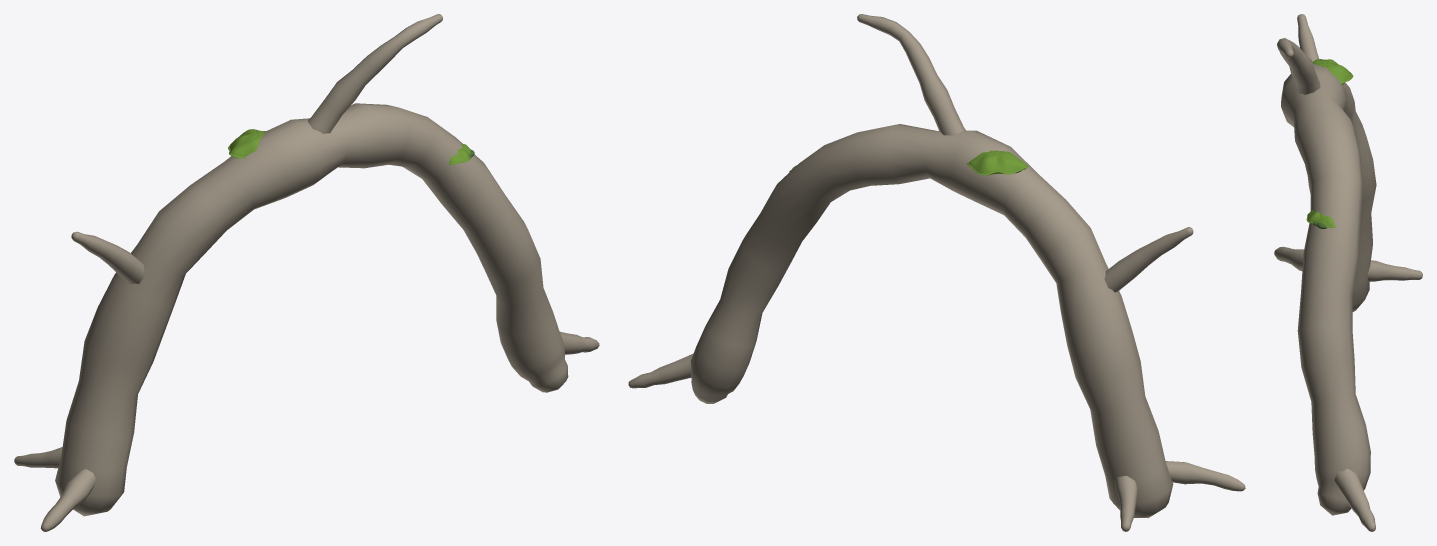
File: sh_driftwood_arch.fbx
3 views of the same model, side by side, from view 1: azimuth 30°, elevation 25°; view 2: azimuth 150°, elevation 25°; view 3: azimuth 270°, elevation 25° (orthographic). The views are drawn at different scales.
Visible parts, largest first — view 1: SH_Driftwood_Arch; view 2: SH_Driftwood_Arch; view 3: SH_Driftwood_Arch.
Boxes of the visible parts, box(x1,y1,x2,y2) form: SH_Driftwood_Arch: box(14, 14, 599, 531); SH_Driftwood_Arch: box(628, 14, 1245, 531); SH_Driftwood_Arch: box(1274, 14, 1422, 531).
Size of the model in its own units: 112 by 77.61 by 25.39.
